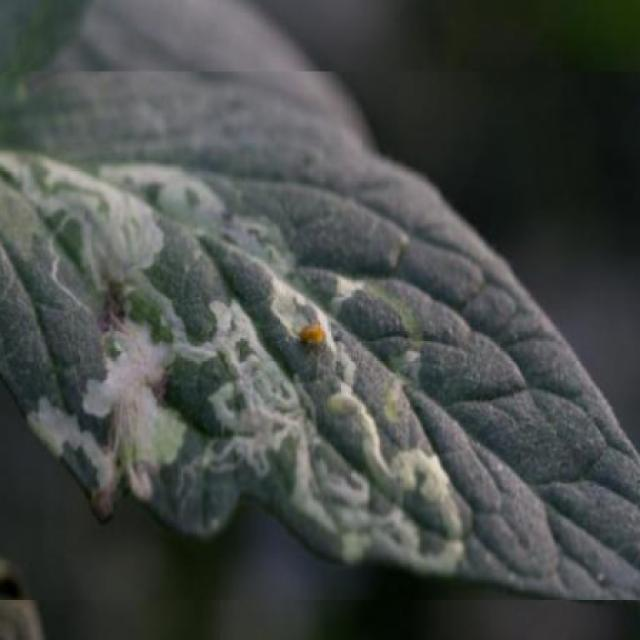Leaf Miner: (0, 71, 640, 600)
